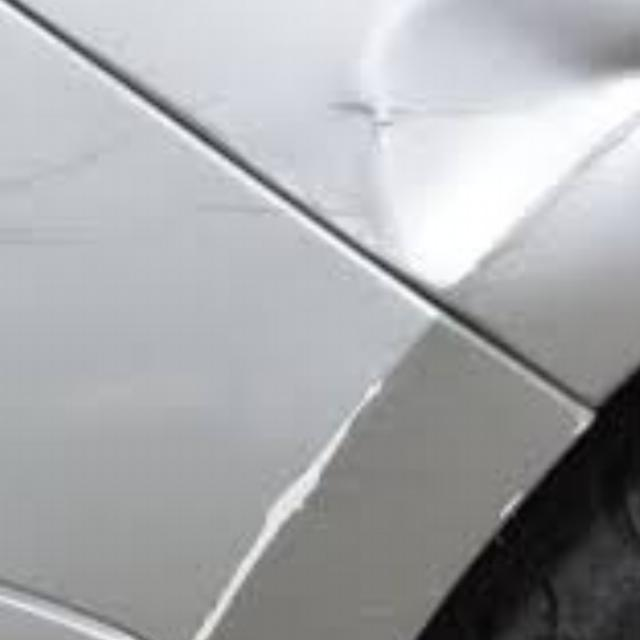dents: (311, 0, 639, 279)
